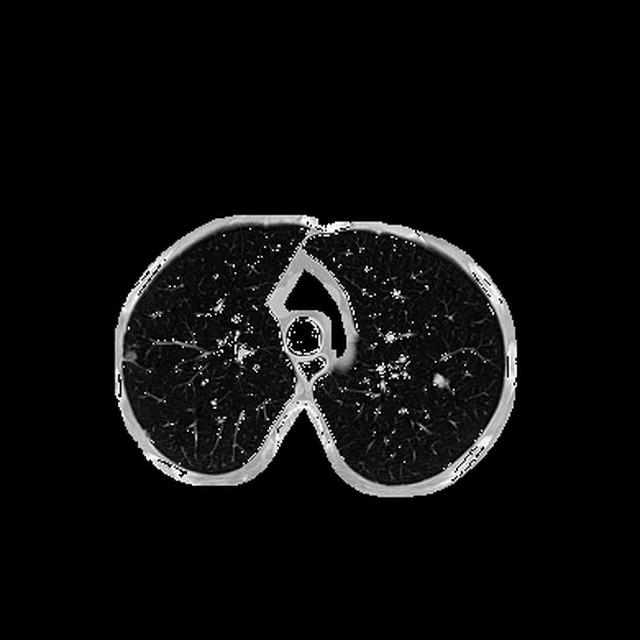PN: (435, 374, 448, 387)
